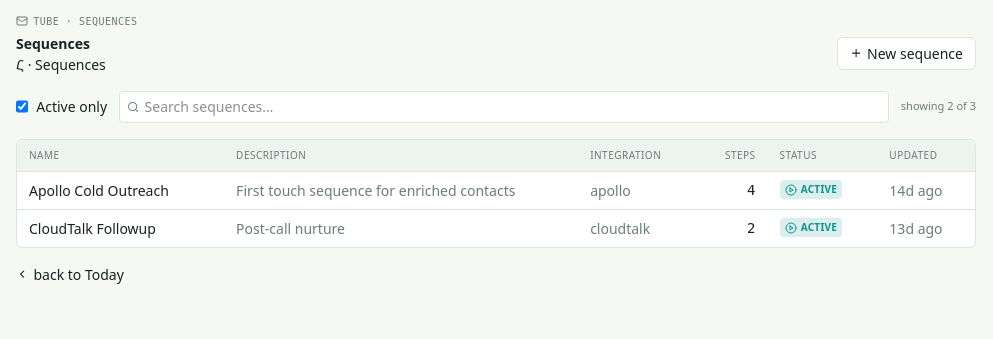
Test: Sequences list — rendering › renders 3 rows and 'showing 3 of 3' when 3 sequences are present
Click the checkbox named "Show only active sequences".
click(22, 107)  # box [16,100,28,113]
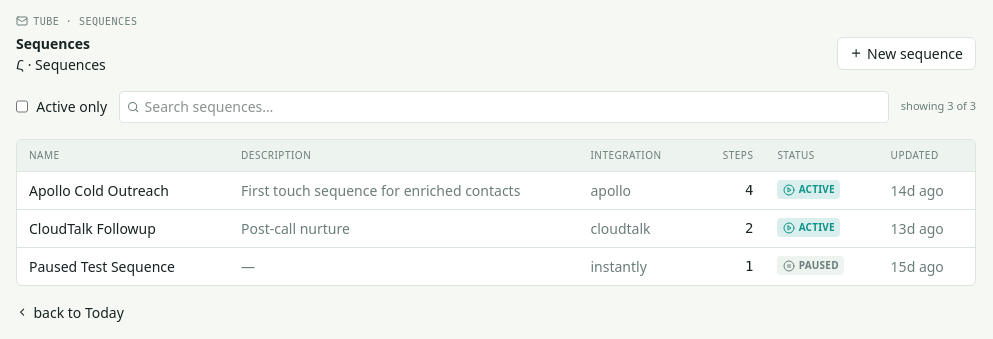
Expected: the checkbox named "Show only active sequences" is not checked, [16,100,28,113]
Expected: the text "showing 3 of 3" is shown, [901,98,976,115]
Expected: the link "Paused Test Sequence" is shown, [29,256,175,276]
